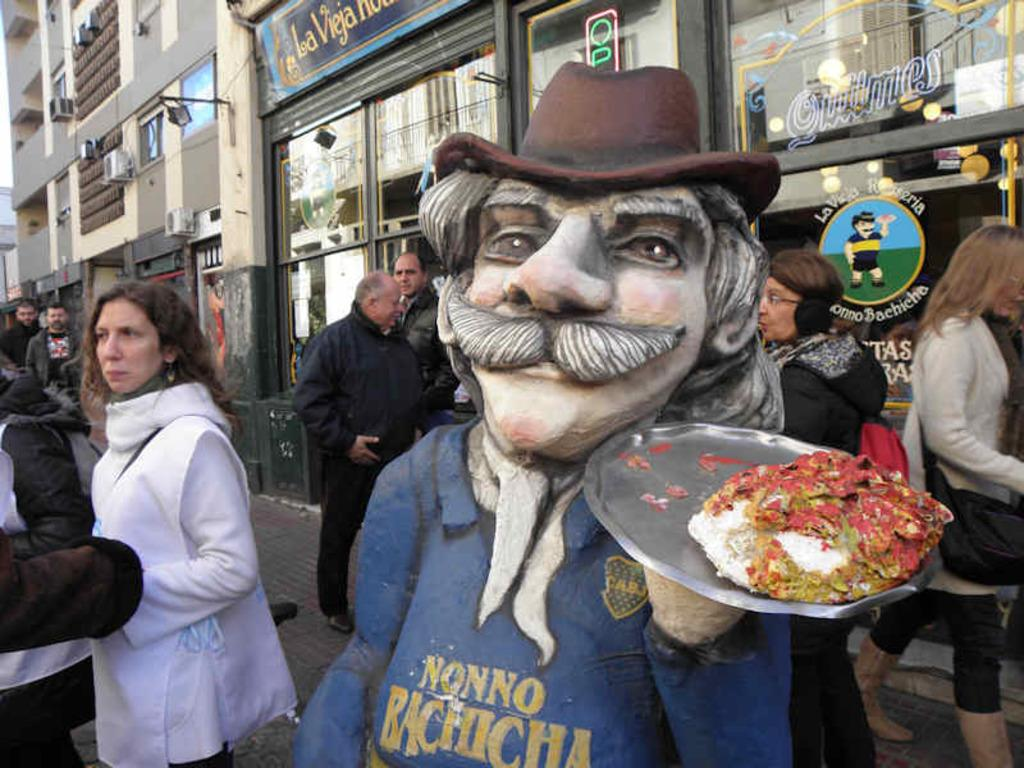Hat: (431, 54, 782, 222)
